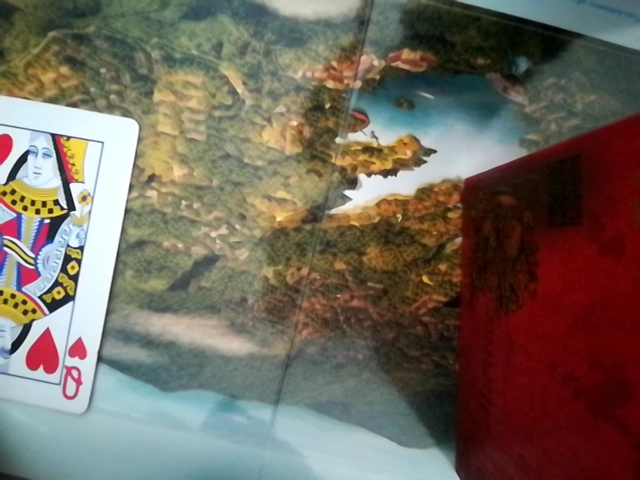hx q: (1, 83, 138, 415)
